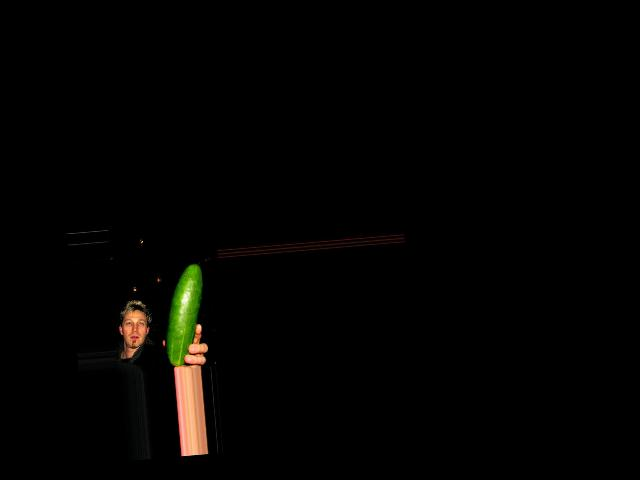cucumber: (160, 263, 210, 366)
